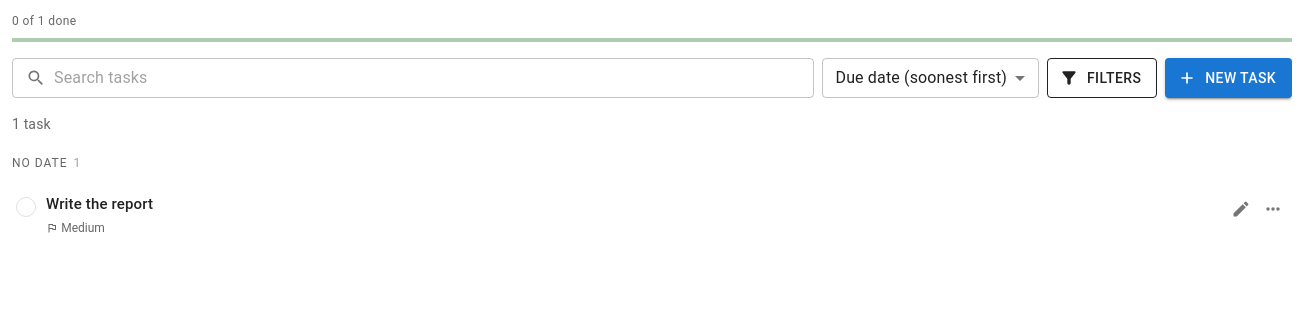
Test: TaskDashboard › offers a way out when nothing matches the filters
Type "nothing matches this" into the field with placeholder "Search tasks".
click(434, 78); type("nothing matches this")  # box [54,58,814,98]
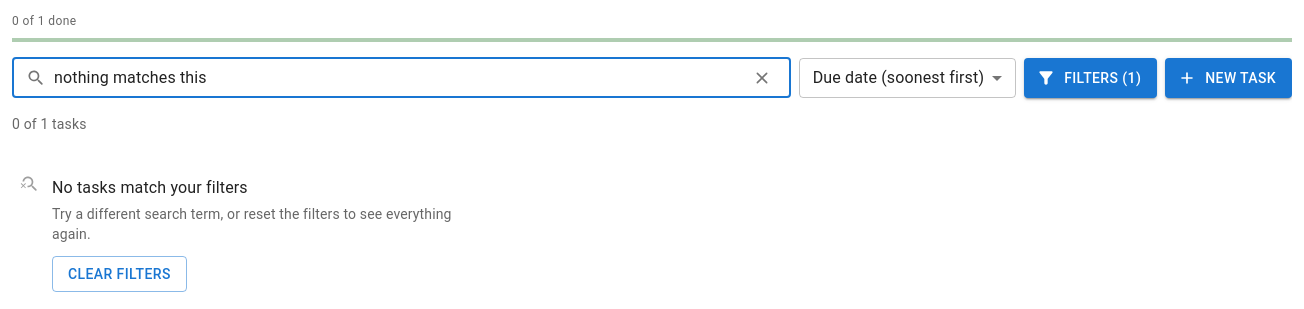
Expected: the heading "No tasks match your filters" is shown, [52,178,248,197]
Click the button "Clear filters".
click(119, 274)  # box [52,256,187,292]
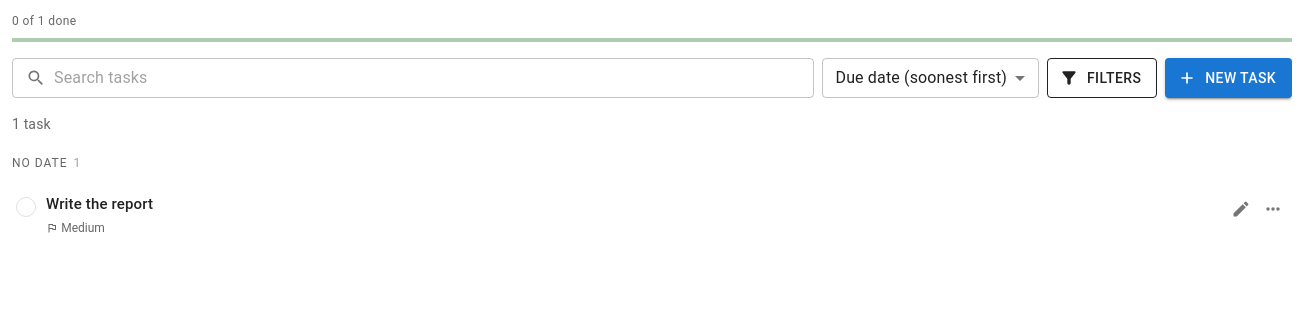
Expected: the text "Write the report" is shown, [46,195,153,213]
